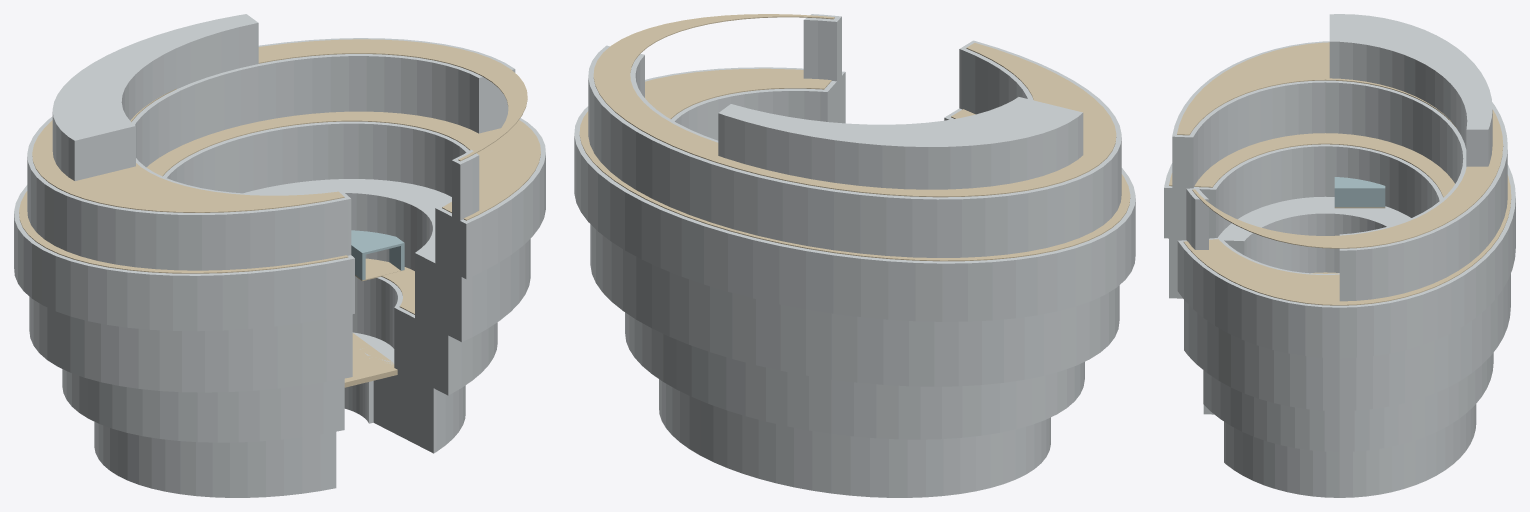
The picture shows the model from 3 angles, left to right: view 1: azimuth 30°, elevation 25°; view 2: azimuth 150°, elevation 25°; view 3: azimuth 270°, elevation 25°; orthographic projection. The views are drawn at different scales.
Parts seen in each view (by area): view 1: N1_inhabited_wall_4, N1_inhabited_wall_3, N1_inhabited_wall_2, N1_inhabited_wall_1, N1_inhabited_wall_0, N1_inhabited_wall_5, N1_public_terrace_4, N1_public_terrace_3, N1_civic_floor, N1_forum_roof, N1_public_terrace_1; view 2: N1_inhabited_wall_4, N1_inhabited_wall_3, N1_inhabited_wall_2, N1_inhabited_wall_5, N1_inhabited_wall_1, N1_inhabited_wall_0, N1_public_terrace_4, N1_public_terrace_3; view 3: N1_inhabited_wall_3, N1_inhabited_wall_4, N1_inhabited_wall_2, N1_inhabited_wall_5, N1_inhabited_wall_1, N1_inhabited_wall_0, N1_public_terrace_4, N1_public_terrace_3, N1_civic_archive_side_1, N1_civic_archive_roof.
Boxes of the visible parts, x1=… form: N1_inhabited_wall_4: x1=27, y1=38, x2=515, y2=270; N1_inhabited_wall_3: x1=14, y1=118, x2=545, y2=331; N1_inhabited_wall_2: x1=29, y1=179, x2=530, y2=392; N1_inhabited_wall_1: x1=62, y1=276, x2=497, y2=442; N1_inhabited_wall_0: x1=94, y1=332, x2=465, y2=497; N1_inhabited_wall_5: x1=52, y1=14, x2=258, y2=180; N1_public_terrace_4: x1=32, y1=39, x2=527, y2=212; N1_public_terrace_3: x1=19, y1=111, x2=540, y2=273; N1_civic_floor: x1=344, y1=333, x2=397, y2=387; N1_forum_roof: x1=351, y1=230, x2=404, y2=255; N1_public_terrace_1: x1=381, y1=267, x2=414, y2=314; N1_inhabited_wall_4: x1=588, y1=14, x2=1121, y2=257; N1_inhabited_wall_3: x1=574, y1=67, x2=1135, y2=321; N1_inhabited_wall_2: x1=590, y1=224, x2=1119, y2=386; N1_inhabited_wall_5: x1=718, y1=97, x2=1083, y2=189; N1_inhabited_wall_1: x1=625, y1=312, x2=1084, y2=439; N1_inhabited_wall_0: x1=659, y1=379, x2=1050, y2=497; N1_public_terrace_4: x1=593, y1=14, x2=1116, y2=197; N1_public_terrace_3: x1=579, y1=68, x2=1130, y2=261; N1_inhabited_wall_3: x1=1164, y1=144, x2=1515, y2=358; N1_inhabited_wall_4: x1=1172, y1=41, x2=1507, y2=301; N1_inhabited_wall_2: x1=1169, y1=196, x2=1510, y2=410; N1_inhabited_wall_5: x1=1329, y1=14, x2=1492, y2=166; N1_inhabited_wall_1: x1=1203, y1=353, x2=1493, y2=451; N1_inhabited_wall_0: x1=1203, y1=404, x2=1476, y2=497; N1_public_terrace_4: x1=1177, y1=42, x2=1503, y2=248; N1_public_terrace_3: x1=1169, y1=133, x2=1511, y2=305; N1_civic_archive_side_1: x1=1334, y1=190, x2=1385, y2=207; N1_civic_archive_roof: x1=1334, y1=177, x2=1385, y2=190.
Size of the model in its own units: 5160 by 3420 by 3473.
